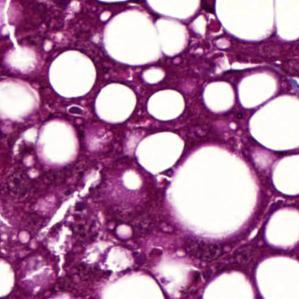steatosis: (45, 51, 96, 99), (94, 79, 138, 126), (145, 87, 185, 123)
